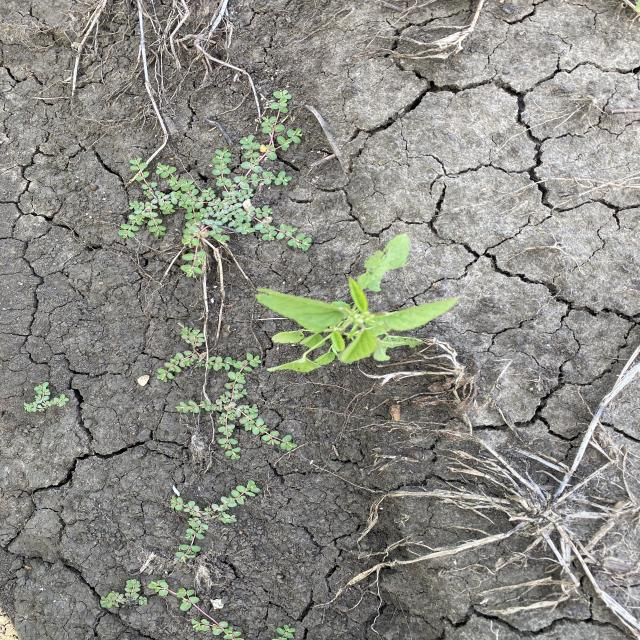PricklySida: (252, 230, 465, 376)
SpottedSpurge: (116, 87, 318, 280), (170, 365, 300, 462), (146, 578, 297, 640), (165, 479, 265, 565), (150, 323, 249, 383), (98, 577, 149, 613), (20, 379, 72, 414)
